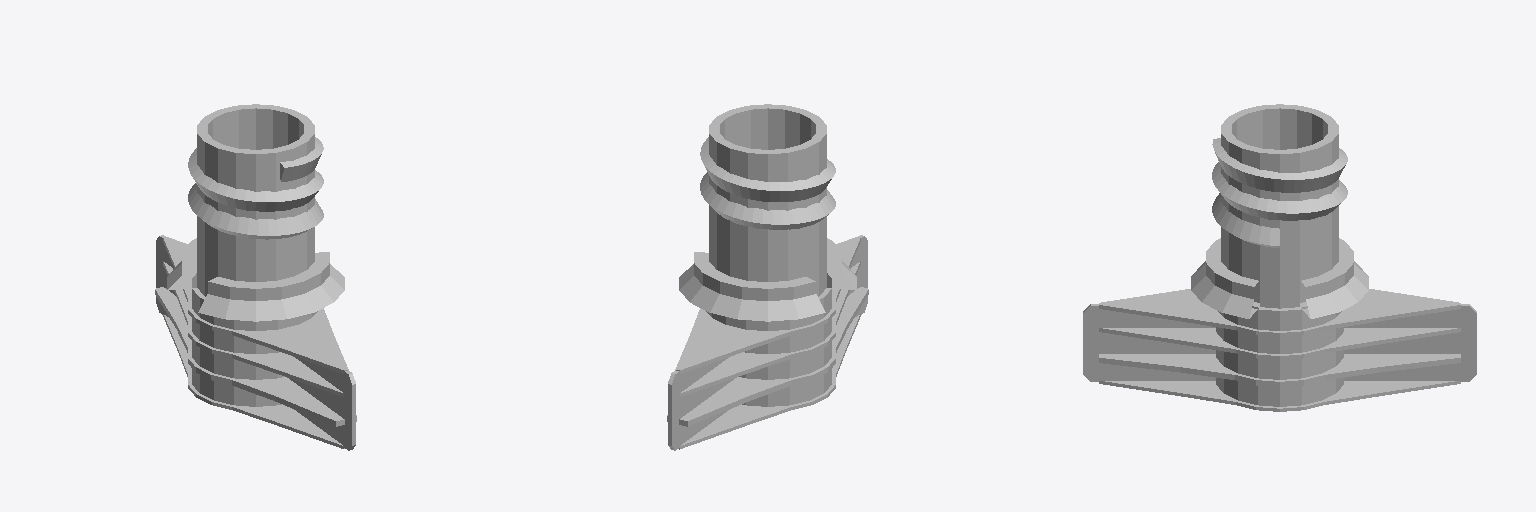
Rendered from mdl_tapa_noname_05_parte_01.obj.
The picture shows the model from 3 angles: view 1: azimuth 30°, elevation 25°; view 2: azimuth 150°, elevation 25°; view 3: azimuth 270°, elevation 25°; orthographic projection.
Parts seen in each view (by area): view 1: Cylinder012; view 2: Cylinder012; view 3: Cylinder012.
Boxes of the visible parts, box(x1,y1,x2,y2) form: Cylinder012: box(155, 104, 356, 450); Cylinder012: box(667, 104, 868, 450); Cylinder012: box(1083, 104, 1476, 411).
Bounding box in the file's own units: 1.83 × 3.02 × 4.25.